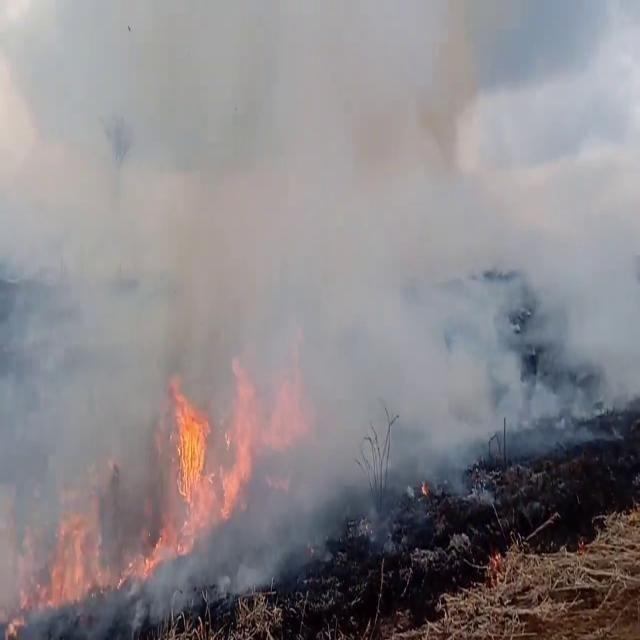Fire: (156, 350, 258, 552), (41, 501, 90, 614)
Smoke: (3, 1, 637, 591)
